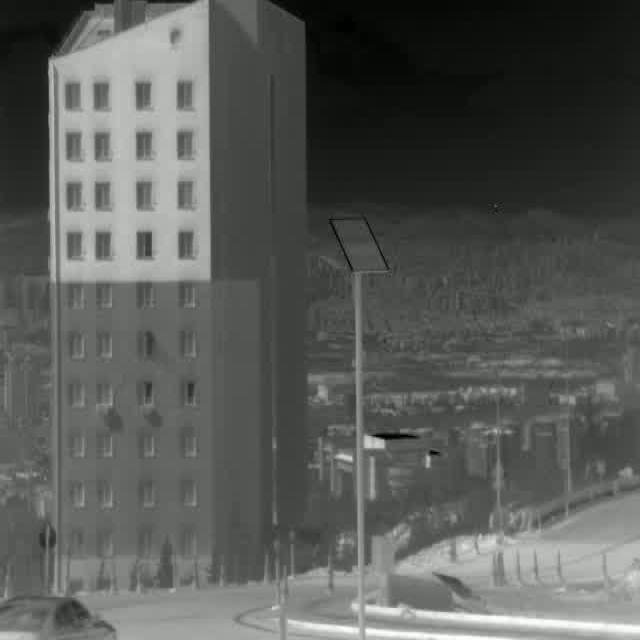Car: (0, 594, 115, 640)
